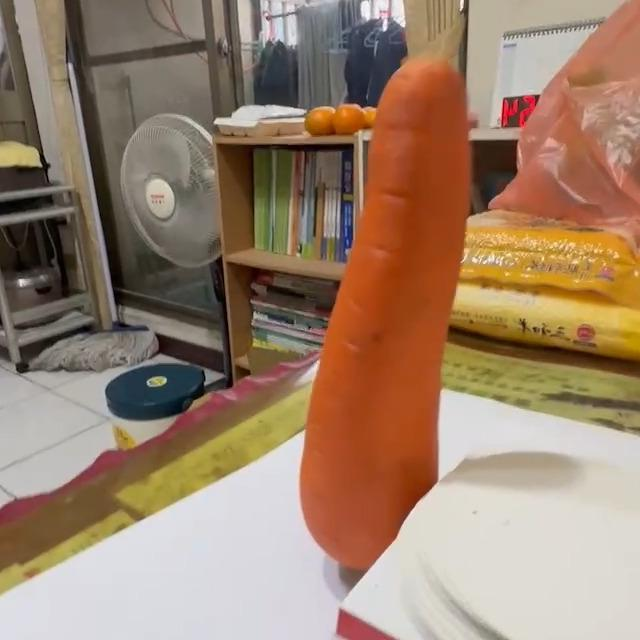carrot: (301, 53, 467, 572)
